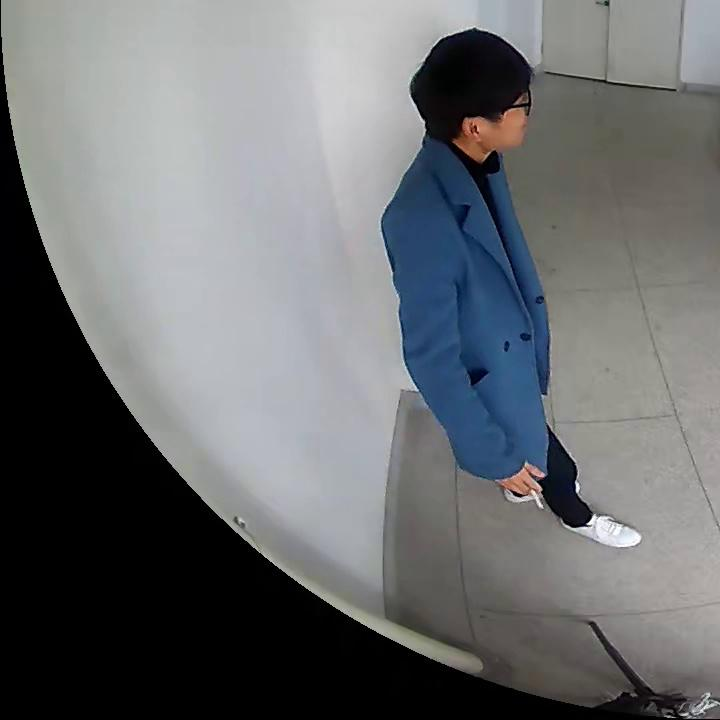handsmoke: (518, 464, 546, 512)
mouthwithoutsmoke: (411, 28, 532, 150)
